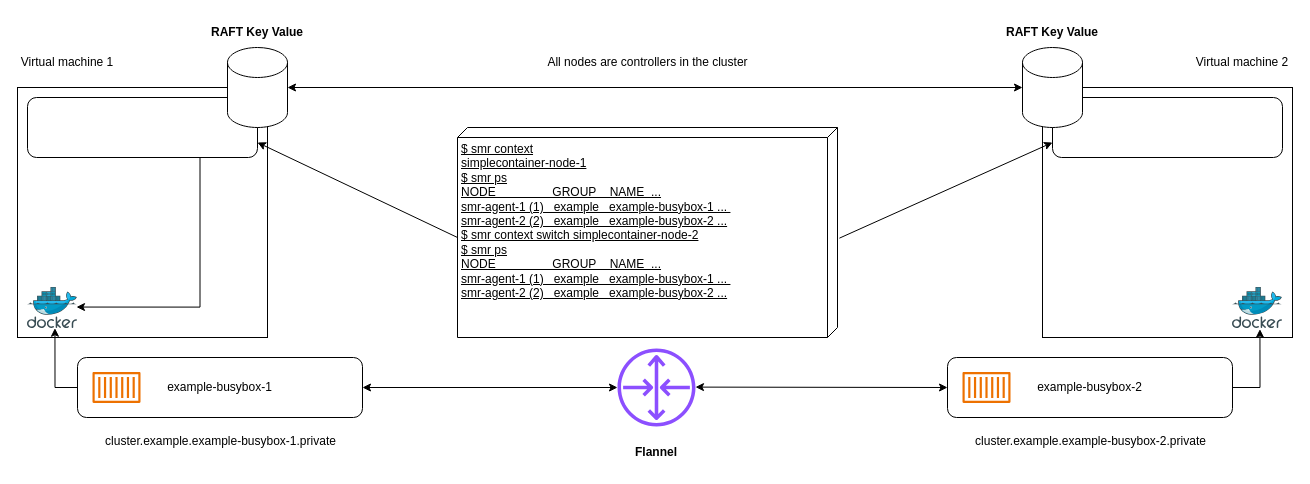
The diagram is 1310 pixels wide and 484 high, and some of its shapes have lost their labels. The shapes that lost their labels are listed below. From the top down, each one's box as (x1, y1, x2, y2) in pixels, then its label:
(26, 96, 258, 158): Simplecontainer Node 1
(1052, 96, 1282, 158): Simplecontainer Node 2
